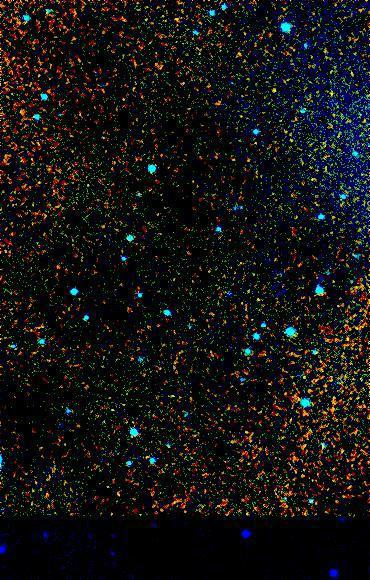star: (259, 74, 289, 104)
